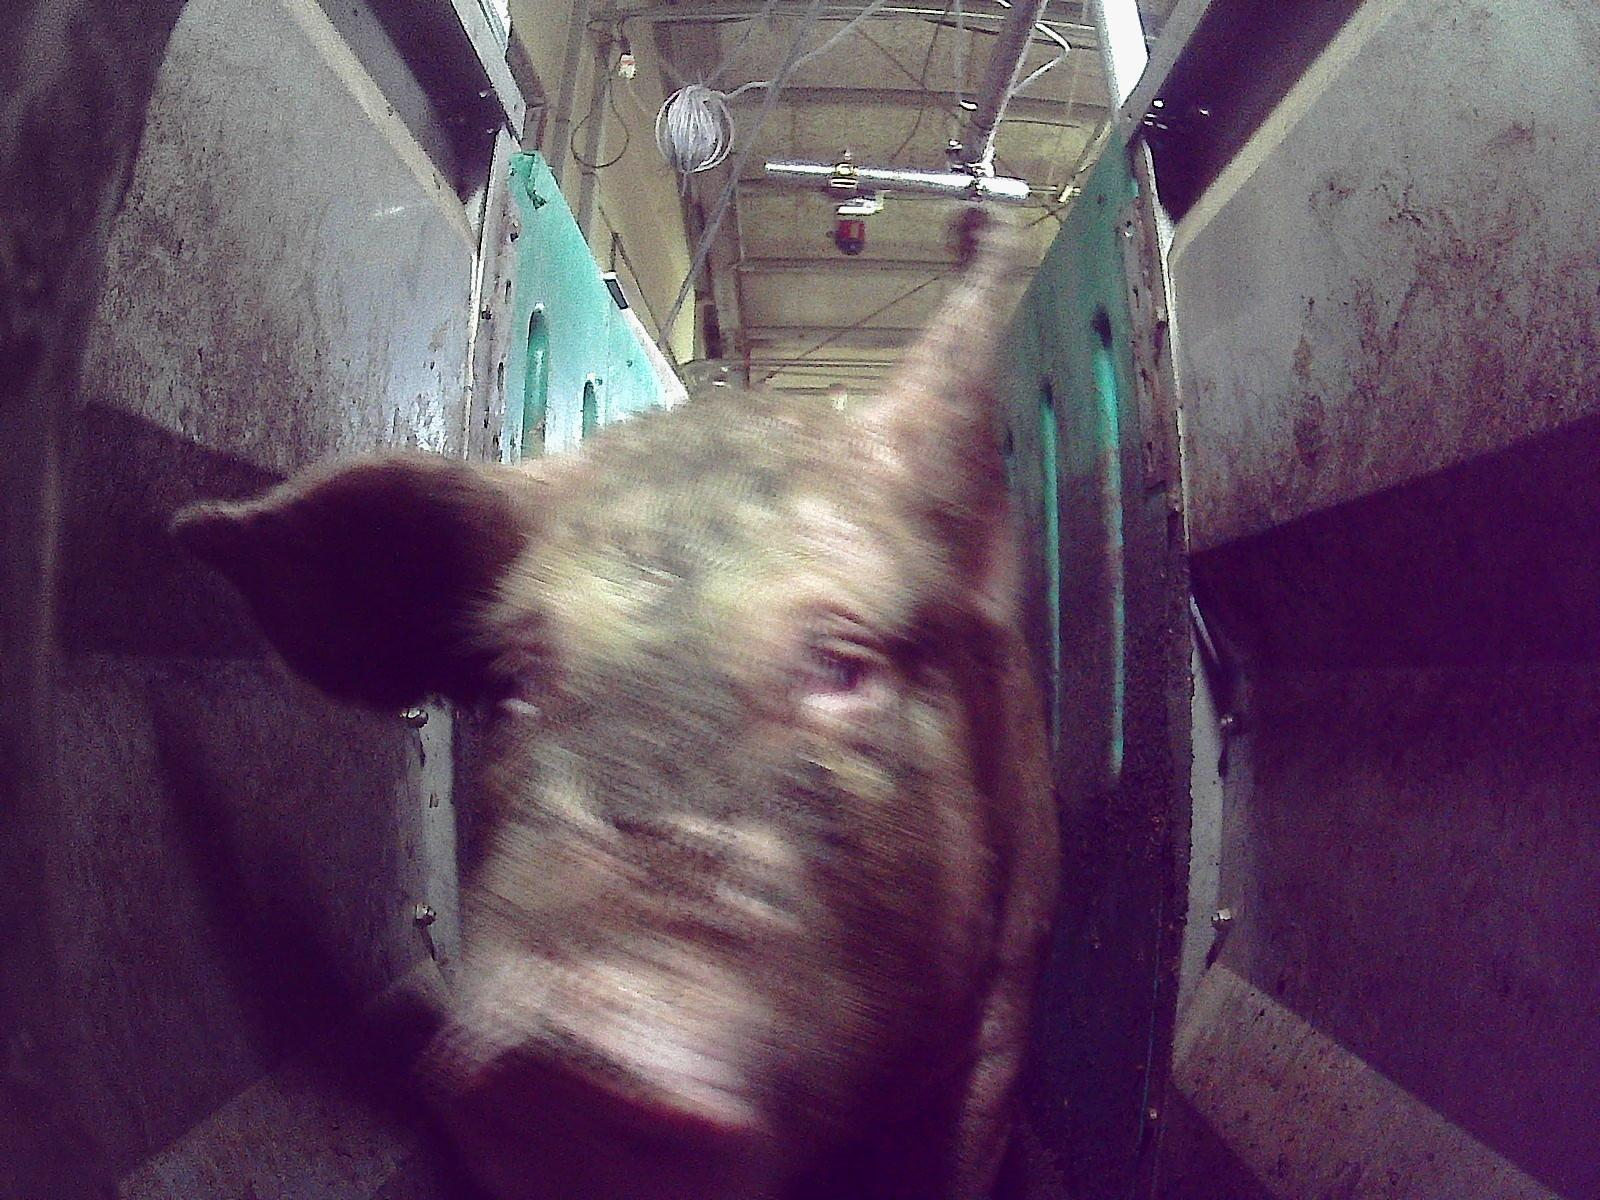Face: (415, 380, 988, 1196)
